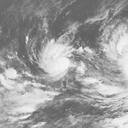cyclone: (38, 38, 71, 82), (104, 21, 127, 78)
